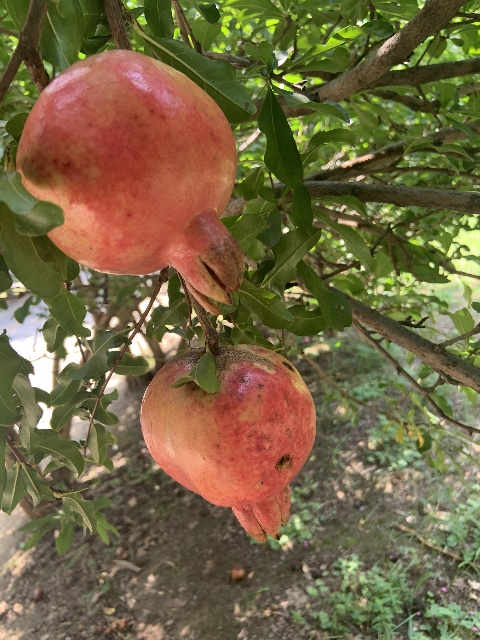ripe: (16, 48, 246, 314), (140, 348, 316, 543)
